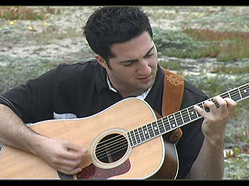guitar: (1, 81, 248, 179)
